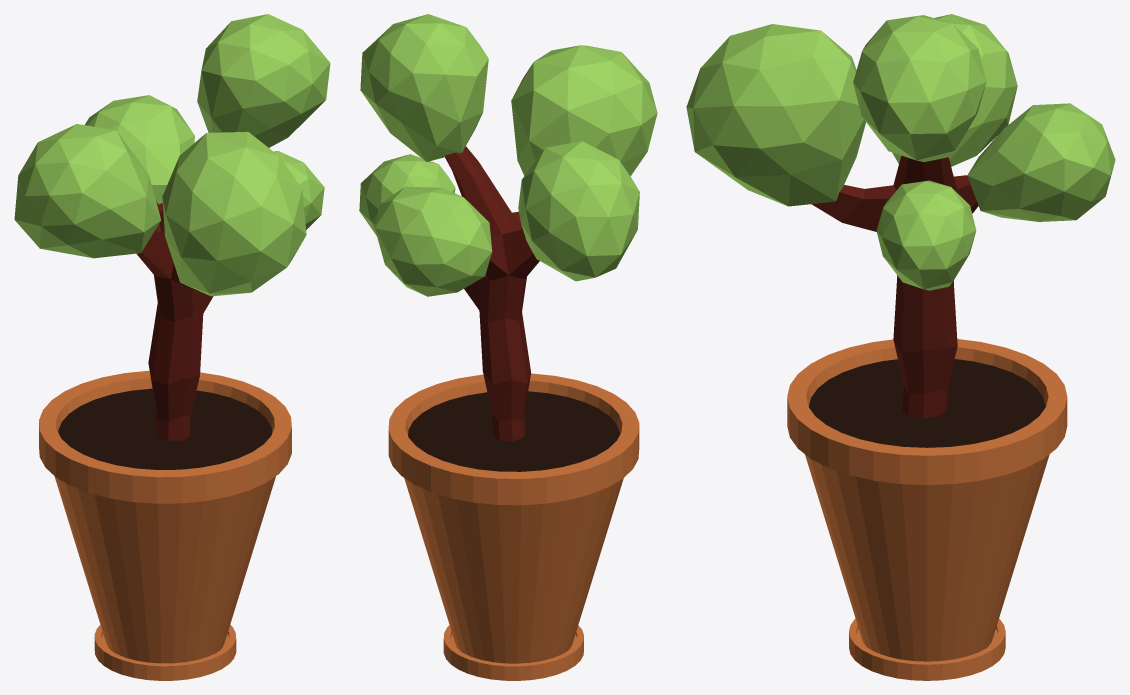
Rendered from Plant_Tree.fbx.
3 renders of one model, left to right at view 1: azimuth 30°, elevation 25°; view 2: azimuth 150°, elevation 25°; view 3: azimuth 270°, elevation 25°, orthographic. The views are drawn at different scales.
Visible parts, largest first — view 1: tree_Pot; view 2: tree_Pot; view 3: tree_Pot.
Boxes of the visible parts, x1,y1,x2,y2 form: tree_Pot: (14, 14, 330, 680); tree_Pot: (359, 14, 657, 680); tree_Pot: (686, 14, 1115, 680).
Size of the model in its own units: 465 by 950 by 548.
